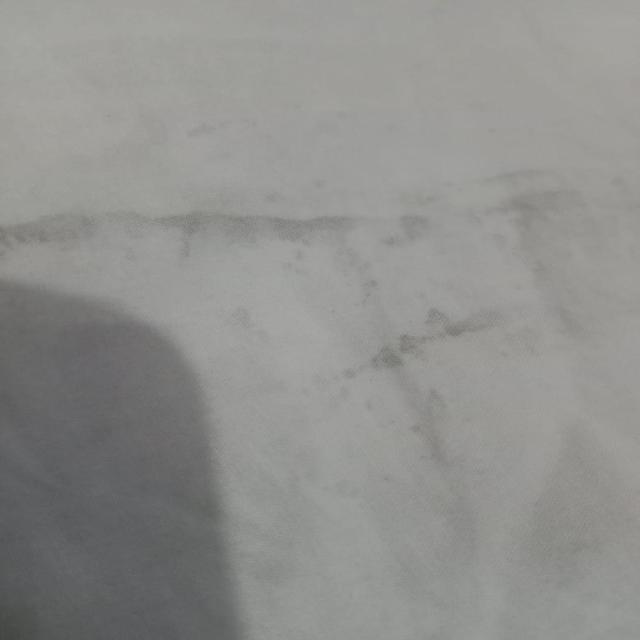stain: (7, 188, 580, 262), (334, 292, 537, 421)
